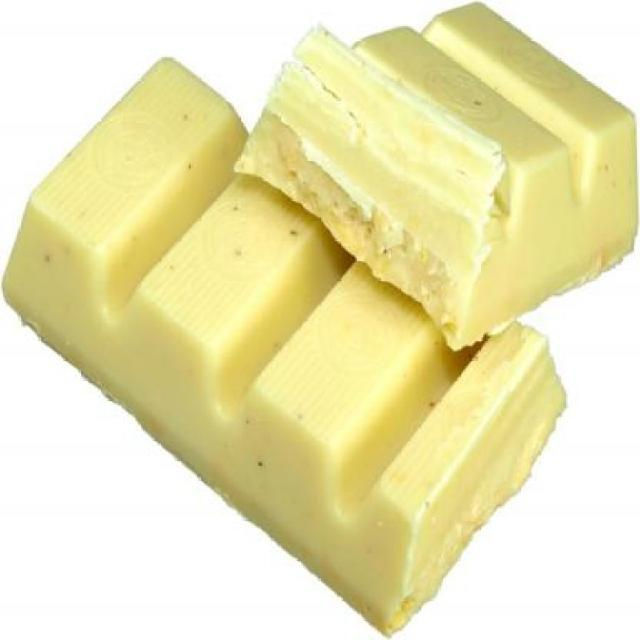Cheese: (2, 53, 568, 635), (230, 0, 638, 352)
